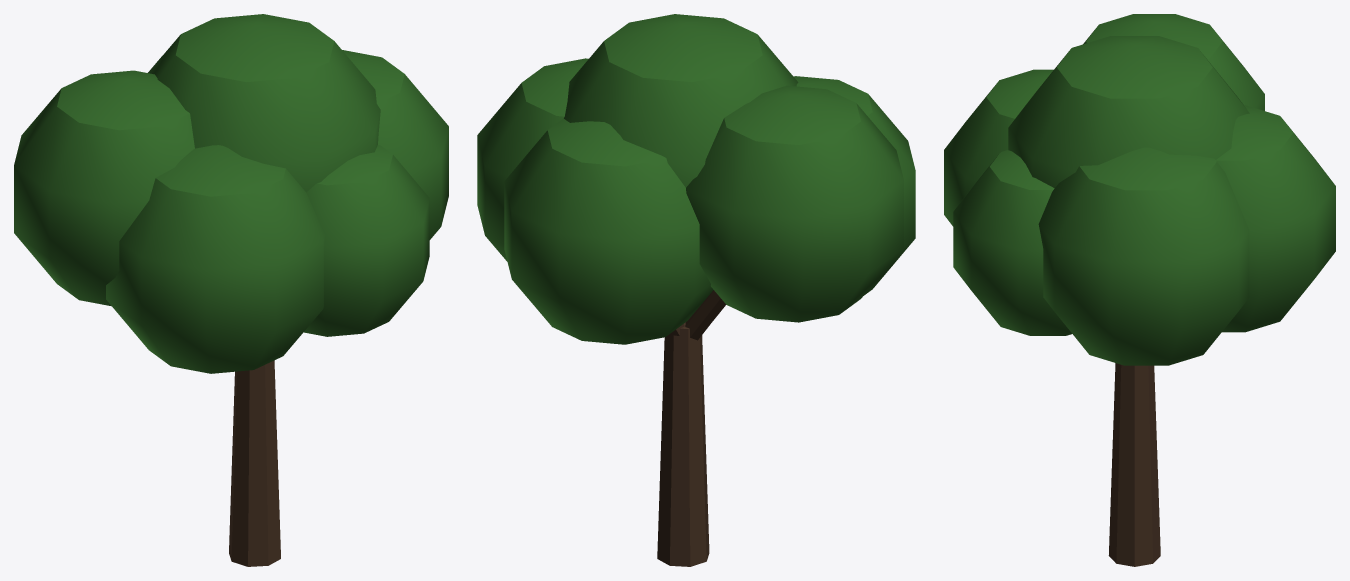
Rendered from landscape.tree.sapling.glb.
3 views of the same model, side by side, from view 1: azimuth 30°, elevation 25°; view 2: azimuth 150°, elevation 25°; view 3: azimuth 270°, elevation 25° (orthographic). The views are drawn at different scales.
Parts seen in each view (by area): view 1: main__foliage, main__bark; view 2: main__foliage, main__bark; view 3: main__foliage, main__bark.
Part boxes in pixels (x1,y1,x2,y2): main__foliage: [14, 14, 448, 373]; main__bark: [229, 360, 280, 566]; main__foliage: [477, 14, 915, 344]; main__bark: [657, 290, 725, 566]; main__foliage: [944, 14, 1335, 365]; main__bark: [1108, 363, 1160, 566].
Bounding box in the file's own units: 1.98 × 2.55 × 1.77.
